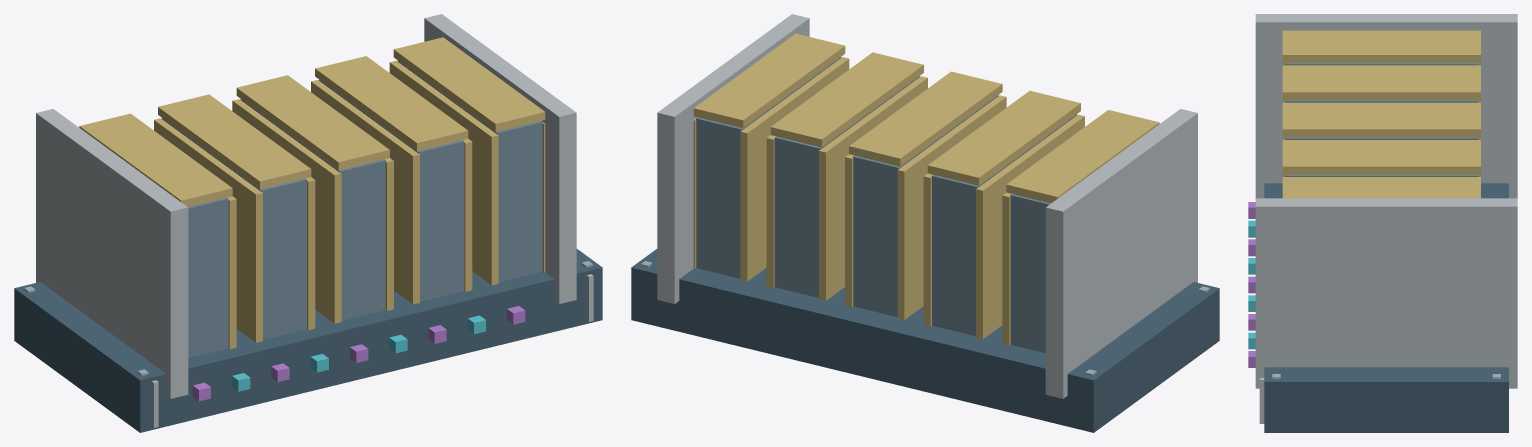
File: 07_L72_HighAspectRatioTrenchSample.glb
3 renders of one model, left to right at view 1: azimuth 30°, elevation 25°; view 2: azimuth 150°, elevation 25°; view 3: azimuth 270°, elevation 25°, orthographic. The views are drawn at different scales.
Parts seen in each view (by area): view 1: HighAspectRatioTrenchSample_Part_000, HighAspectRatioTrenchSample_Part_027, HighAspectRatioTrenchSample_Part_028, HighAspectRatioTrenchSample_Part_023, HighAspectRatioTrenchSample_Part_019, HighAspectRatioTrenchSample_Part_015, HighAspectRatioTrenchSample_Part_011, HighAspectRatioTrenchSample_Part_012, HighAspectRatioTrenchSample_Part_016, HighAspectRatioTrenchSample_Part_020, HighAspectRatioTrenchSample_Part_024, HighAspectRatioTrenchSample_Part_007 (+10 smaller); view 2: HighAspectRatioTrenchSample_Part_000, HighAspectRatioTrenchSample_Part_027, HighAspectRatioTrenchSample_Part_028, HighAspectRatioTrenchSample_Part_015, HighAspectRatioTrenchSample_Part_019, HighAspectRatioTrenchSample_Part_023, HighAspectRatioTrenchSample_Part_011, HighAspectRatioTrenchSample_Part_016, HighAspectRatioTrenchSample_Part_012, HighAspectRatioTrenchSample_Part_020, HighAspectRatioTrenchSample_Part_024, HighAspectRatioTrenchSample_Part_008 (+10 smaller); view 3: HighAspectRatioTrenchSample_Part_028, HighAspectRatioTrenchSample_Part_000, HighAspectRatioTrenchSample_Part_027, HighAspectRatioTrenchSample_Part_020, HighAspectRatioTrenchSample_Part_008, HighAspectRatioTrenchSample_Part_016, HighAspectRatioTrenchSample_Part_012, HighAspectRatioTrenchSample_Part_024, HighAspectRatioTrenchSample_Part_007, HighAspectRatioTrenchSample_Part_018, HighAspectRatioTrenchSample_Part_010, HighAspectRatioTrenchSample_Part_014 (+5 smaller).
Part boxes in pixels (x1=…): HighAspectRatioTrenchSample_Part_000: x1=14, y1=249, x2=602, y2=432; HighAspectRatioTrenchSample_Part_027: x1=36, y1=109, x2=188, y2=398; HighAspectRatioTrenchSample_Part_028: x1=424, y1=14, x2=576, y2=303; HighAspectRatioTrenchSample_Part_023: x1=397, y1=60, x2=542, y2=282; HighAspectRatioTrenchSample_Part_019: x1=319, y1=79, x2=464, y2=301; HighAspectRatioTrenchSample_Part_015: x1=240, y1=99, x2=385, y2=320; HighAspectRatioTrenchSample_Part_011: x1=162, y1=118, x2=307, y2=339; HighAspectRatioTrenchSample_Part_012: x1=158, y1=94, x2=311, y2=189; HighAspectRatioTrenchSample_Part_016: x1=236, y1=75, x2=389, y2=170; HighAspectRatioTrenchSample_Part_020: x1=315, y1=56, x2=468, y2=150; HighAspectRatioTrenchSample_Part_024: x1=393, y1=37, x2=545, y2=131; HighAspectRatioTrenchSample_Part_007: x1=188, y1=197, x2=228, y2=357; HighAspectRatioTrenchSample_Part_000: x1=631, y1=249, x2=1219, y2=432; HighAspectRatioTrenchSample_Part_027: x1=1045, y1=109, x2=1197, y2=398; HighAspectRatioTrenchSample_Part_028: x1=657, y1=14, x2=809, y2=303; HighAspectRatioTrenchSample_Part_015: x1=853, y1=95, x2=998, y2=316; HighAspectRatioTrenchSample_Part_019: x1=774, y1=76, x2=919, y2=297; HighAspectRatioTrenchSample_Part_023: x1=696, y1=57, x2=841, y2=278; HighAspectRatioTrenchSample_Part_011: x1=931, y1=114, x2=1076, y2=336; HighAspectRatioTrenchSample_Part_016: x1=849, y1=71, x2=1002, y2=166; HighAspectRatioTrenchSample_Part_012: x1=927, y1=90, x2=1080, y2=185; HighAspectRatioTrenchSample_Part_020: x1=770, y1=52, x2=923, y2=147; HighAspectRatioTrenchSample_Part_024: x1=693, y1=33, x2=845, y2=128; HighAspectRatioTrenchSample_Part_008: x1=1006, y1=110, x2=1159, y2=203; HighAspectRatioTrenchSample_Part_028: x1=1255, y1=198, x2=1517, y2=388; HighAspectRatioTrenchSample_Part_000: x1=1264, y1=183, x2=1508, y2=432; HighAspectRatioTrenchSample_Part_027: x1=1255, y1=14, x2=1517, y2=198; HighAspectRatioTrenchSample_Part_020: x1=1282, y1=142, x2=1480, y2=174; HighAspectRatioTrenchSample_Part_008: x1=1282, y1=30, x2=1480, y2=62; HighAspectRatioTrenchSample_Part_016: x1=1282, y1=105, x2=1480, y2=137; HighAspectRatioTrenchSample_Part_012: x1=1282, y1=68, x2=1480, y2=99; HighAspectRatioTrenchSample_Part_024: x1=1282, y1=179, x2=1480, y2=198; HighAspectRatioTrenchSample_Part_007: x1=1285, y1=62, x2=1478, y2=65; HighAspectRatioTrenchSample_Part_018: x1=1282, y1=139, x2=1480, y2=142; HighAspectRatioTrenchSample_Part_010: x1=1282, y1=65, x2=1480, y2=67; HighAspectRatioTrenchSample_Part_014: x1=1282, y1=102, x2=1480, y2=104.
Bounding box in the file's own units: 2.12 × 0.955 × 1.1.
